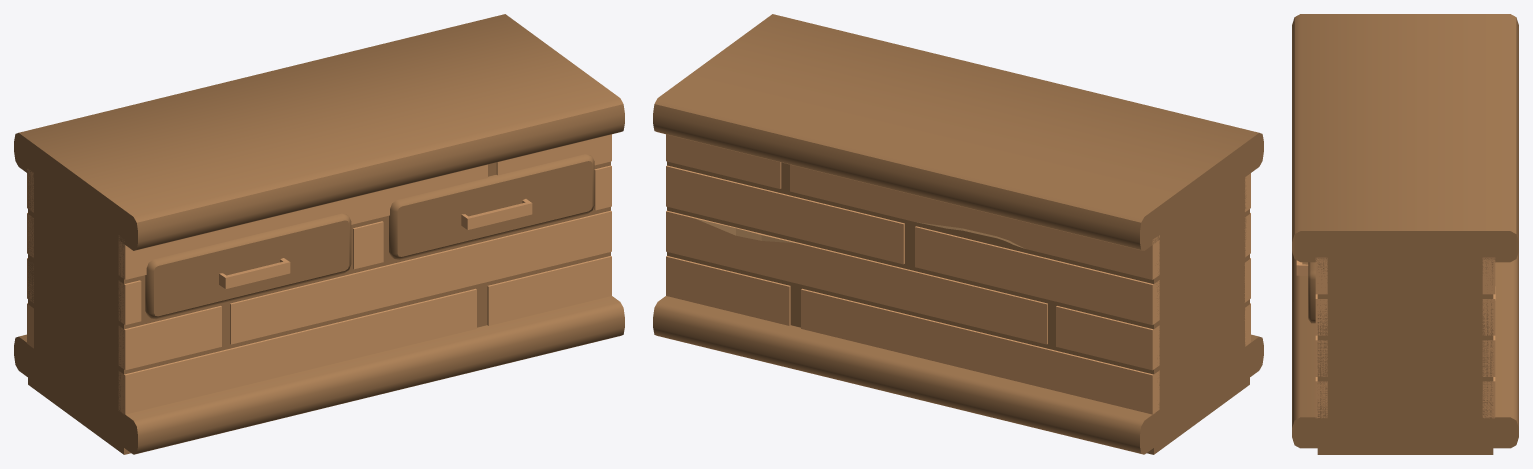
The model's file is counter_drawers.glb.
3 renders of one model, left to right at view 1: azimuth 30°, elevation 25°; view 2: azimuth 150°, elevation 25°; view 3: azimuth 270°, elevation 25°, orthographic. The views are drawn at different scales.
Visible parts, largest first — view 1: Environment_Counter_Drawers; view 2: Environment_Counter_Drawers; view 3: Environment_Counter_Drawers.
Part boxes in pixels (x1,y1,x2,y2): Environment_Counter_Drawers: (14,14,624,454); Environment_Counter_Drawers: (653,14,1263,454); Environment_Counter_Drawers: (1292,14,1518,454).
Bounding box in the file's own units: 4 × 1.92 × 1.77.
1 material, 1 textured.
